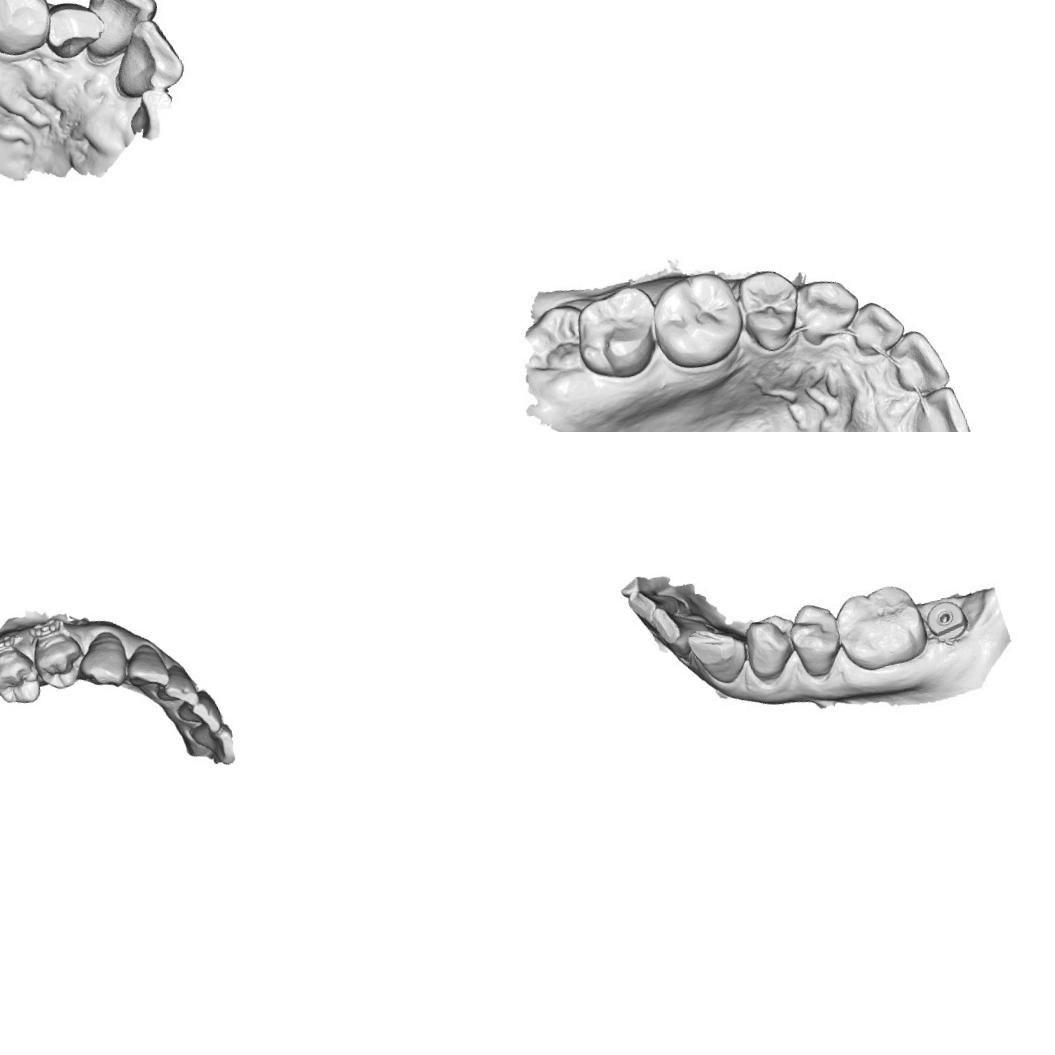canine: (788, 271, 866, 348), (683, 620, 751, 691), (41, 0, 107, 64), (72, 628, 132, 693)
implant: (921, 594, 971, 642)
incisor: (108, 19, 185, 102), (77, 0, 164, 63), (888, 326, 950, 404), (646, 595, 724, 652), (846, 294, 911, 359), (911, 379, 975, 432), (0, 0, 55, 56), (119, 638, 169, 694), (179, 684, 226, 738), (192, 719, 238, 769), (161, 661, 201, 710)
molar: (644, 263, 751, 376), (565, 280, 666, 388), (828, 579, 932, 679)
premolar: (732, 262, 804, 355), (784, 594, 852, 682), (737, 608, 804, 688), (29, 630, 90, 695), (0, 640, 43, 709)
